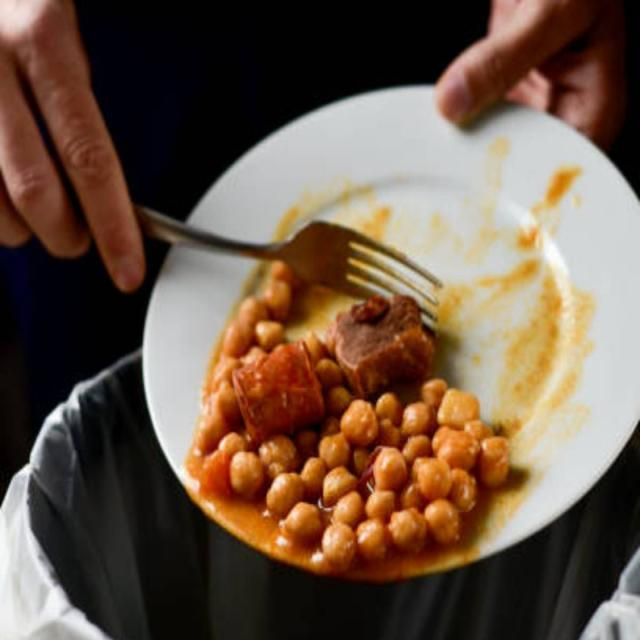Food -Biodegradable-: (185, 282, 514, 573)
